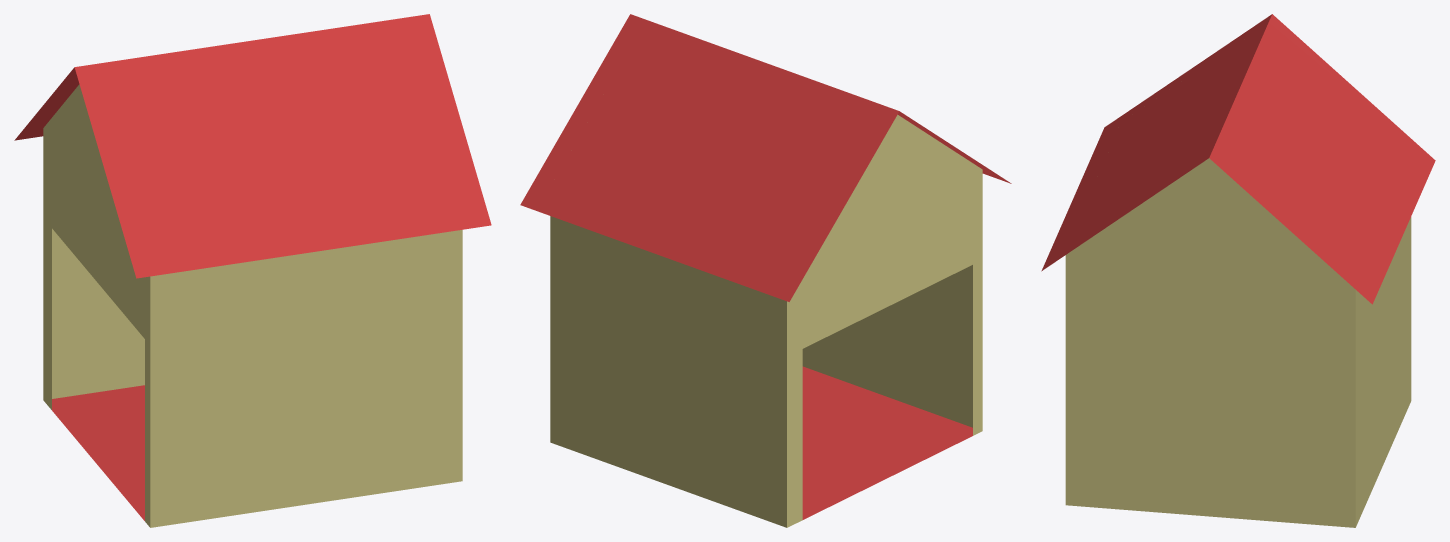
The picture shows the model from 3 angles, left to right: view 1: azimuth 30°, elevation 25°; view 2: azimuth 150°, elevation 25°; view 3: azimuth 270°, elevation 25°; orthographic projection. The views are drawn at different scales.
Bounding box in the file's own units: 14.36 × 14.08 × 14.47.
